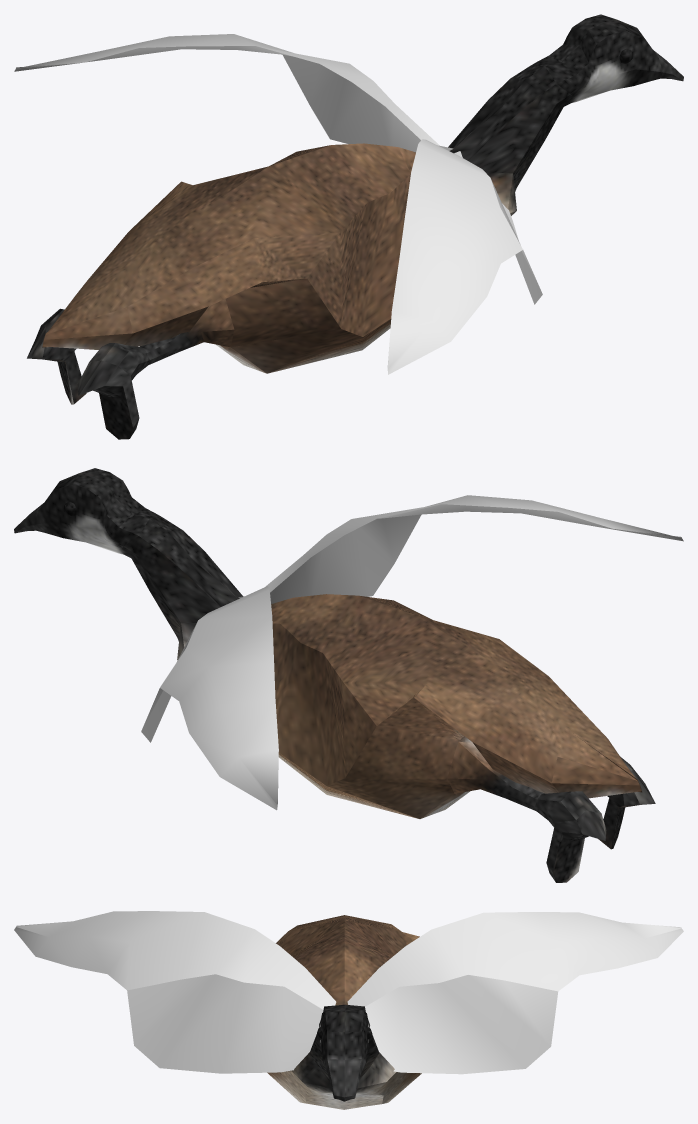
The model's file is CanadianGooseFlying.fbx.
3 views of the same model, one above another, from view 1: azimuth 30°, elevation 25°; view 2: azimuth 150°, elevation 25°; view 3: azimuth 270°, elevation 25° (orthographic). The views are drawn at different scales.
Visible parts, largest first — view 1: CanadaGooseFlying, CanadaGooseFlyingWings; view 2: CanadaGooseFlying, CanadaGooseFlyingWings; view 3: CanadaGooseFlyingWings, CanadaGooseFlying.
Part boxes in pixels (x1,y1,x2,y2): CanadaGooseFlying: [27, 14, 683, 439]; CanadaGooseFlyingWings: [14, 34, 542, 374]; CanadaGooseFlying: [14, 468, 655, 882]; CanadaGooseFlyingWings: [141, 495, 683, 810]; CanadaGooseFlyingWings: [14, 911, 683, 1074]; CanadaGooseFlying: [267, 915, 421, 1109].
Size of the model in its own units: 240 by 98.81 by 258.
